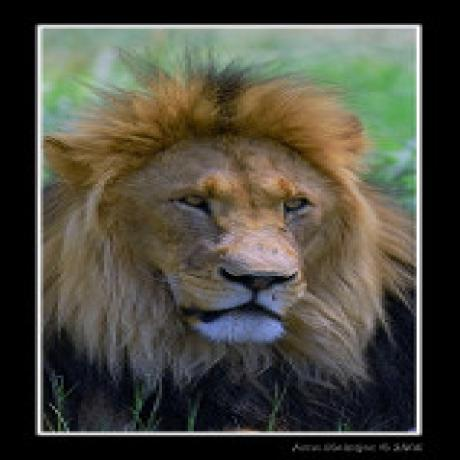Lion: (40, 55, 408, 428)
